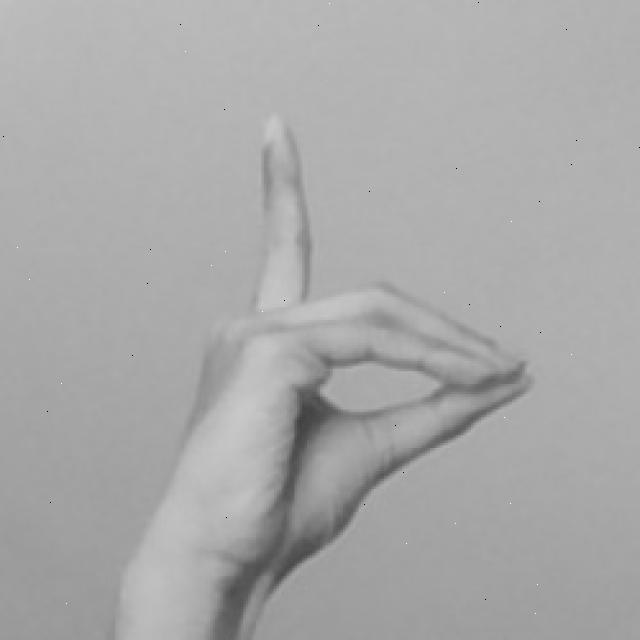D: (108, 106, 537, 640)
